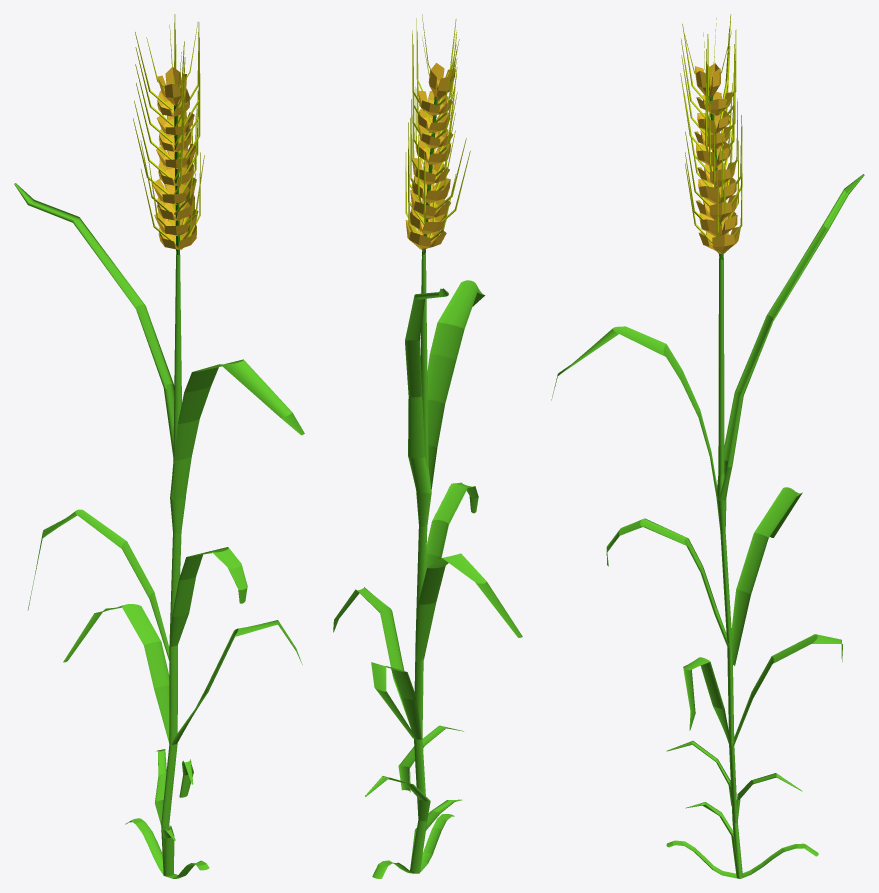
Rendered from barley3.fbx.
3 renders of one model, left to right at view 1: azimuth 30°, elevation 25°; view 2: azimuth 150°, elevation 25°; view 3: azimuth 270°, elevation 25°, orthographic. The views are drawn at different scales.
Parts seen in each view (by area): view 1: barley stage 3; view 2: barley stage 3; view 3: barley stage 3.
Boxes of the visible parts, x1,y1,x2,y2 form: barley stage 3: (14, 14, 304, 878); barley stage 3: (333, 14, 522, 878); barley stage 3: (551, 14, 864, 878).
Bounding box in the file's own units: 43.6 × 153 × 51.12.
